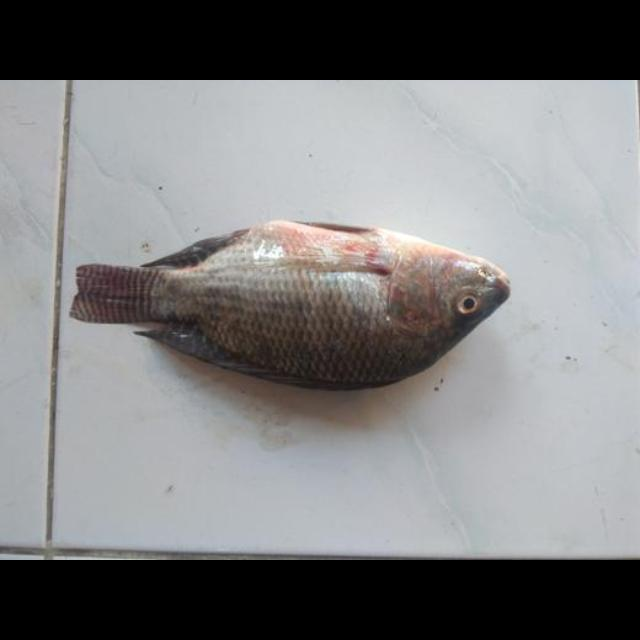Tilapia: (68, 215, 516, 389)
